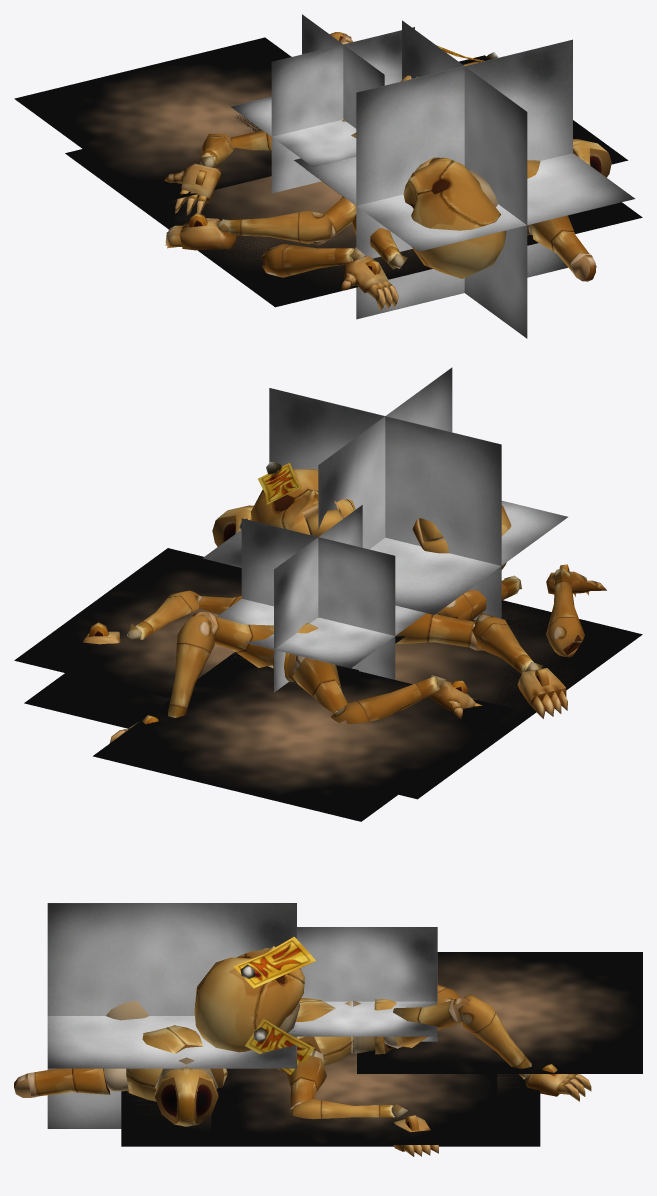
File: a_SWAdoll01_b.glb
The picture shows the model from 3 angles, top to bottom: view 1: azimuth 30°, elevation 25°; view 2: azimuth 150°, elevation 25°; view 3: azimuth 270°, elevation 25°; orthographic projection. The views are drawn at different scales.
Parts seen in each view (by area): view 1: a_SWAdoll01_b; view 2: a_SWAdoll01_b; view 3: a_SWAdoll01_b.
Part boxes in pixels (box(x1,y1,x2,y2)): a_SWAdoll01_b: box(14, 14, 642, 338); a_SWAdoll01_b: box(14, 367, 642, 821); a_SWAdoll01_b: box(14, 903, 642, 1156).
Size of the model in its own units: 1.71 by 0.8862 by 2.24.
3 materials, 3 textured.
